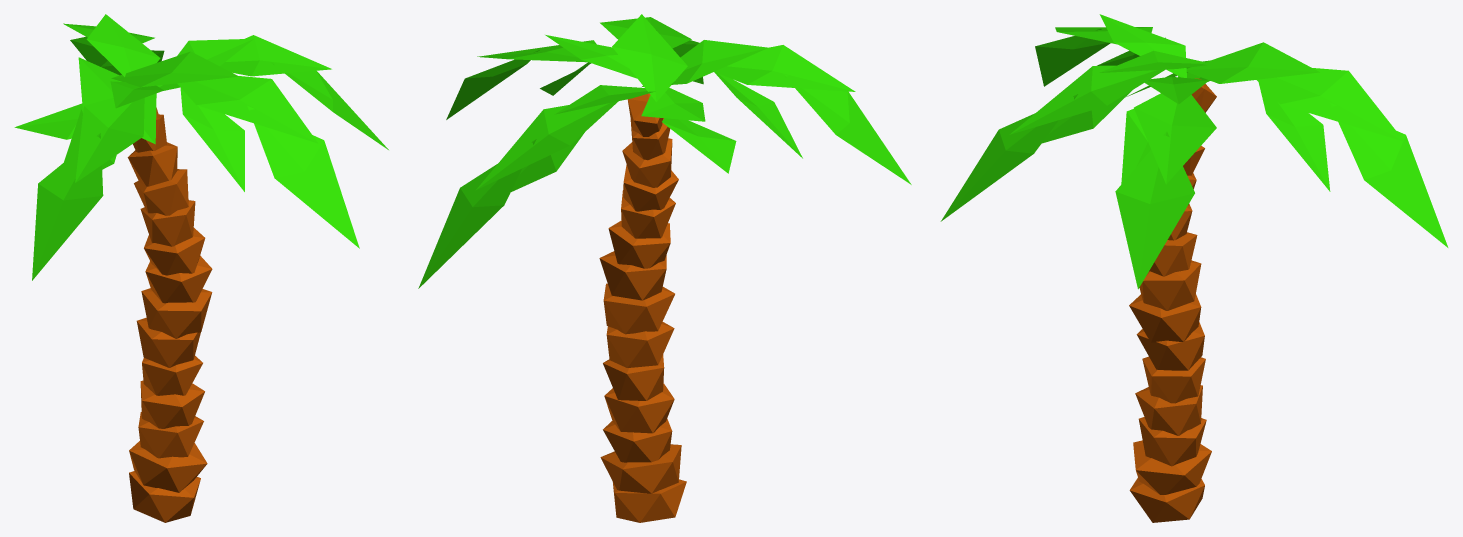
Rendered from PalmTree.glb.
The picture shows the model from 3 angles, left to right: view 1: azimuth 30°, elevation 25°; view 2: azimuth 150°, elevation 25°; view 3: azimuth 270°, elevation 25°; orthographic projection. The views are drawn at different scales.
Parts seen in each view (by area): view 1: PalmTree; view 2: PalmTree; view 3: PalmTree.
Part boxes in pixels (box(x1,y1,x2,y2)): PalmTree: box(14, 14, 388, 522); PalmTree: box(418, 14, 911, 522); PalmTree: box(940, 14, 1448, 522).
Size of the model in its own units: 3.35 by 3.59 by 3.59.
